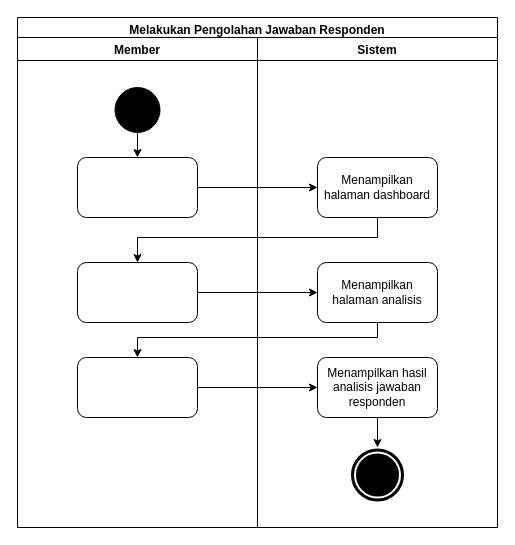
Image size: 515x545. Some labels were removed from this diagram. The centre of each missing label's shape, as x and y in pixels:
"Membuka halaman dashboard" goes at (x=137, y=187).
"Memilih fitur analisis pada kuesioner yang diinginkan" goes at (x=137, y=292).
"Memilih jenis analisis yang ingin dilakukan" goes at (x=137, y=387).
